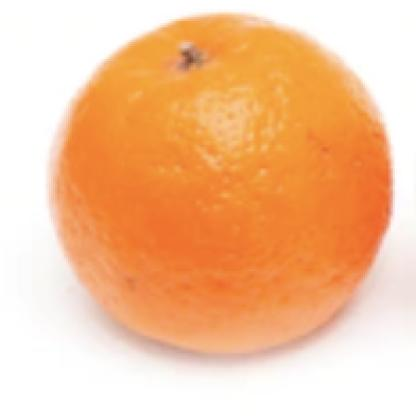fresh: (52, 14, 386, 354)
